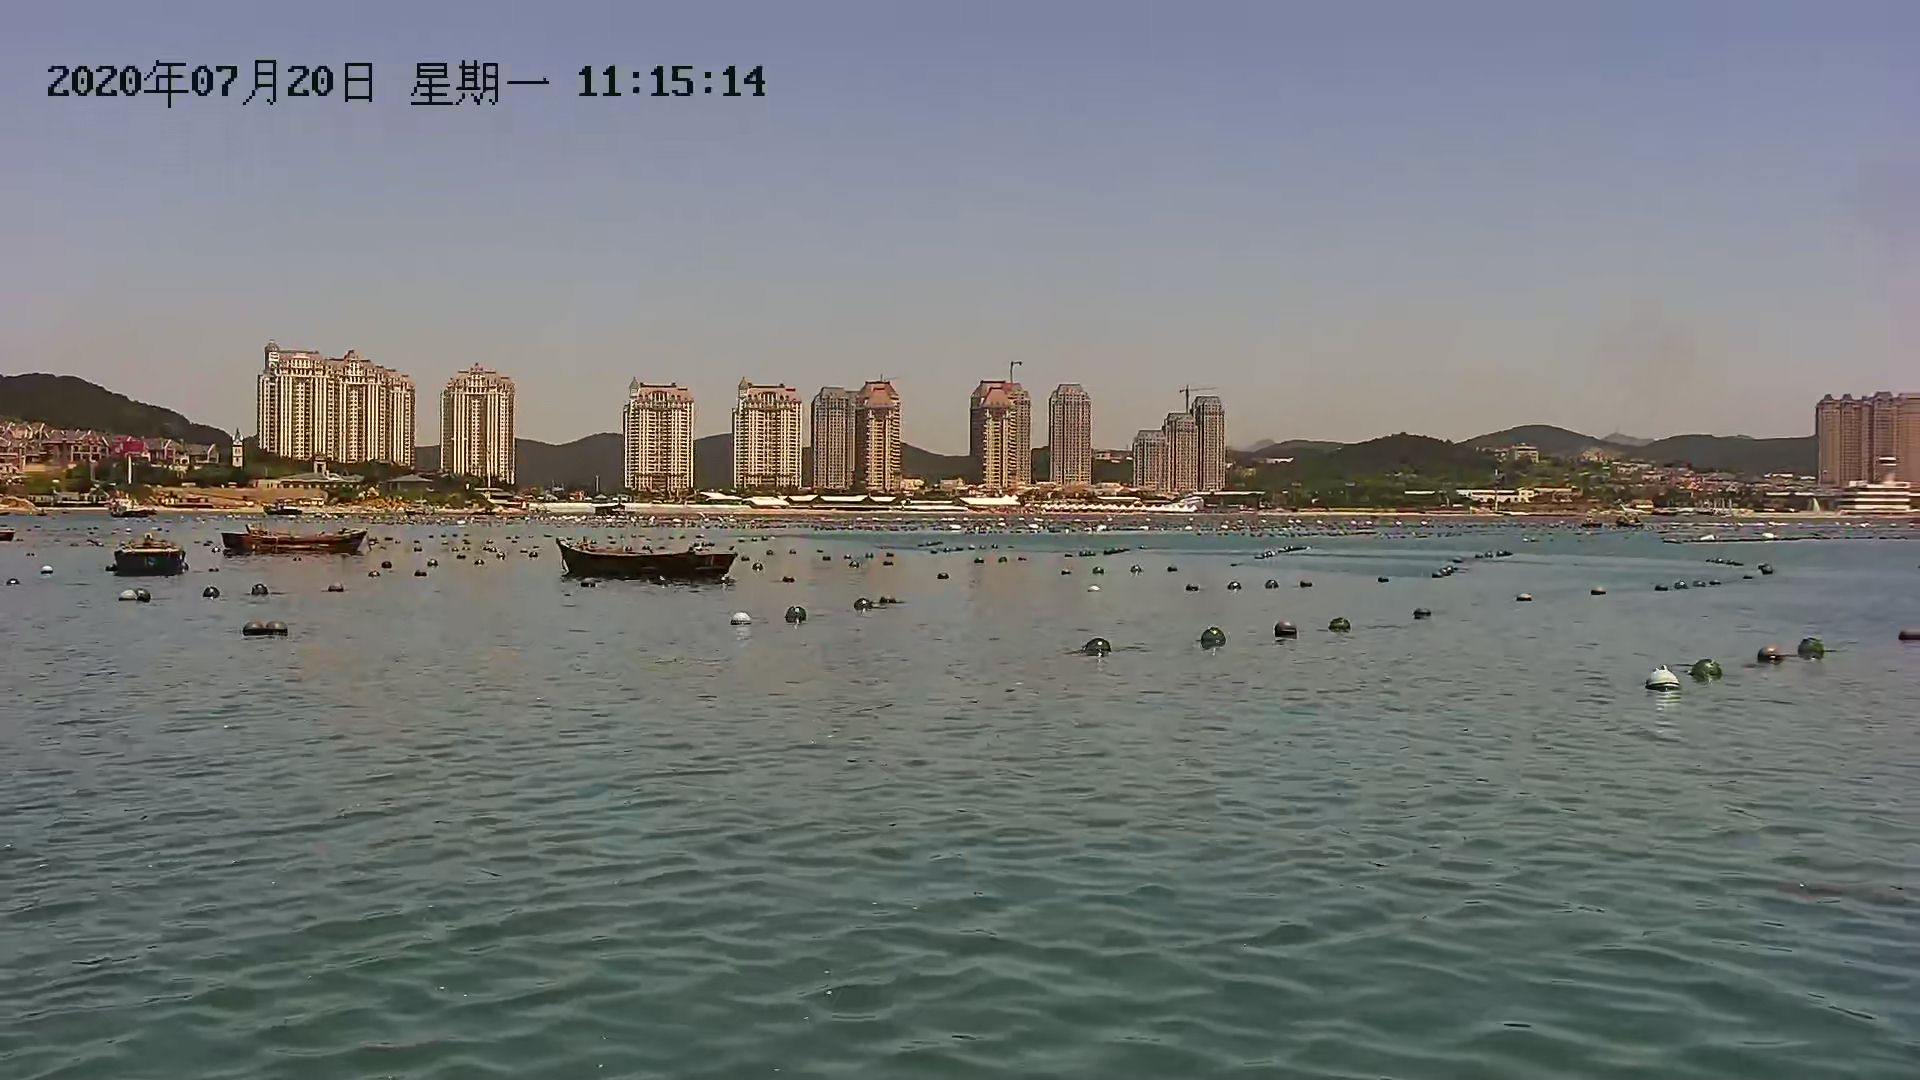ball: (1685, 654, 1730, 690), (1203, 626, 1241, 657), (775, 608, 815, 636), (1648, 669, 1692, 694), (1756, 641, 1788, 675), (1275, 616, 1312, 645), (1791, 636, 1829, 658), (723, 611, 762, 630), (852, 597, 881, 624), (266, 617, 295, 642), (237, 616, 266, 636), (1329, 620, 1360, 636), (1085, 640, 1112, 655)
boat: (545, 530, 745, 589), (218, 524, 367, 567), (95, 535, 203, 584)
